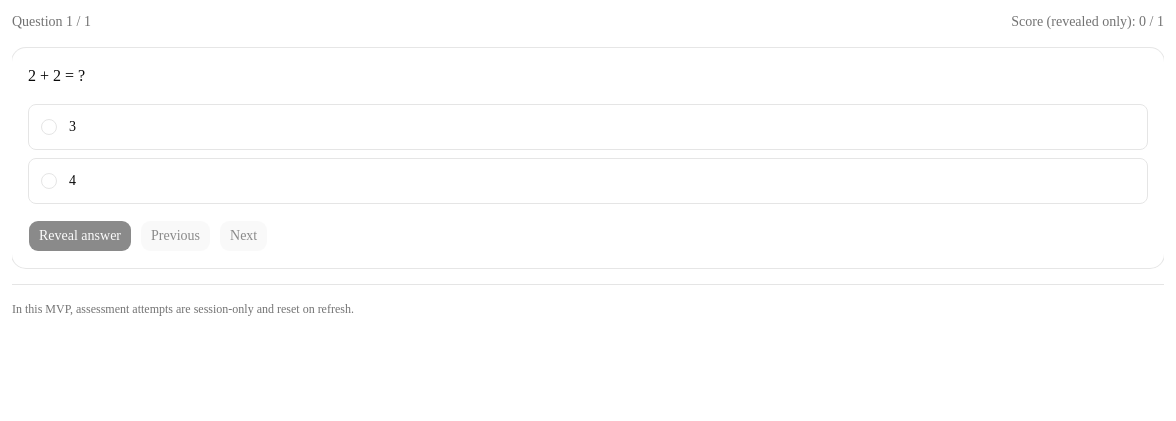
Test case: AssessmentRunner › reveals feedback and updates score
Click the text "4" at (72, 181), box top-left (69, 171), bottom-right (76, 191)
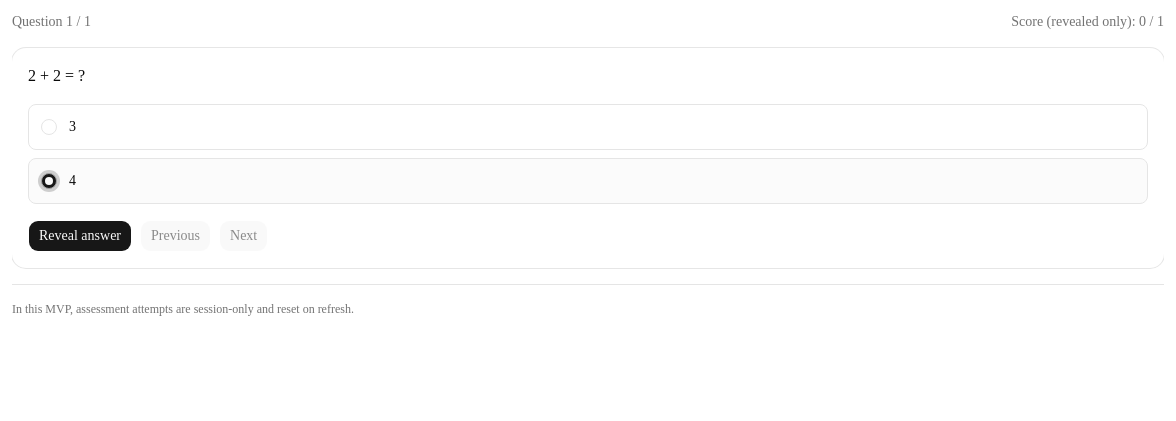
Click the button "Reveal answer" at (80, 236), box top-left (28, 220), bottom-right (132, 252)
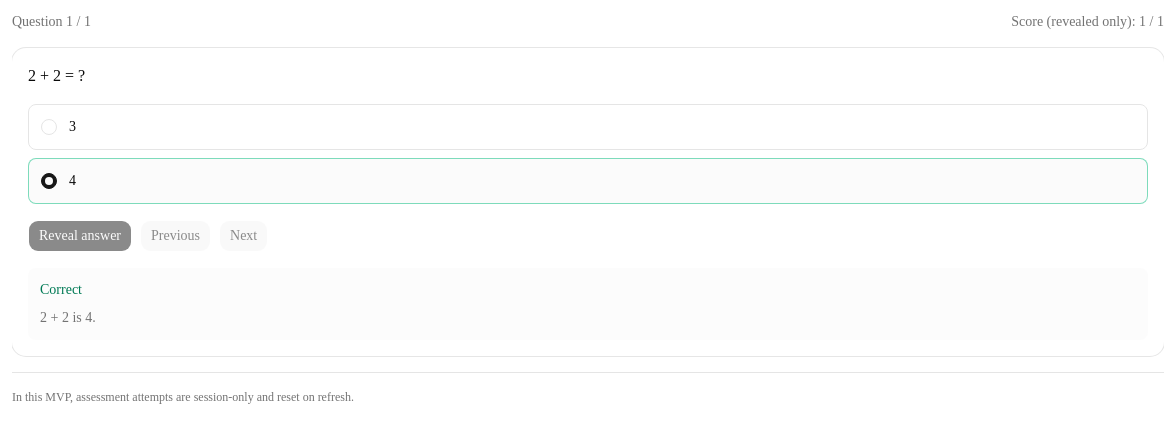
Now the text "Correct" is shown, box top-left (40, 282), bottom-right (82, 297)
Now the text "Score (revealed only): 1 / 1" is shown, box top-left (1011, 12), bottom-right (1164, 32)
